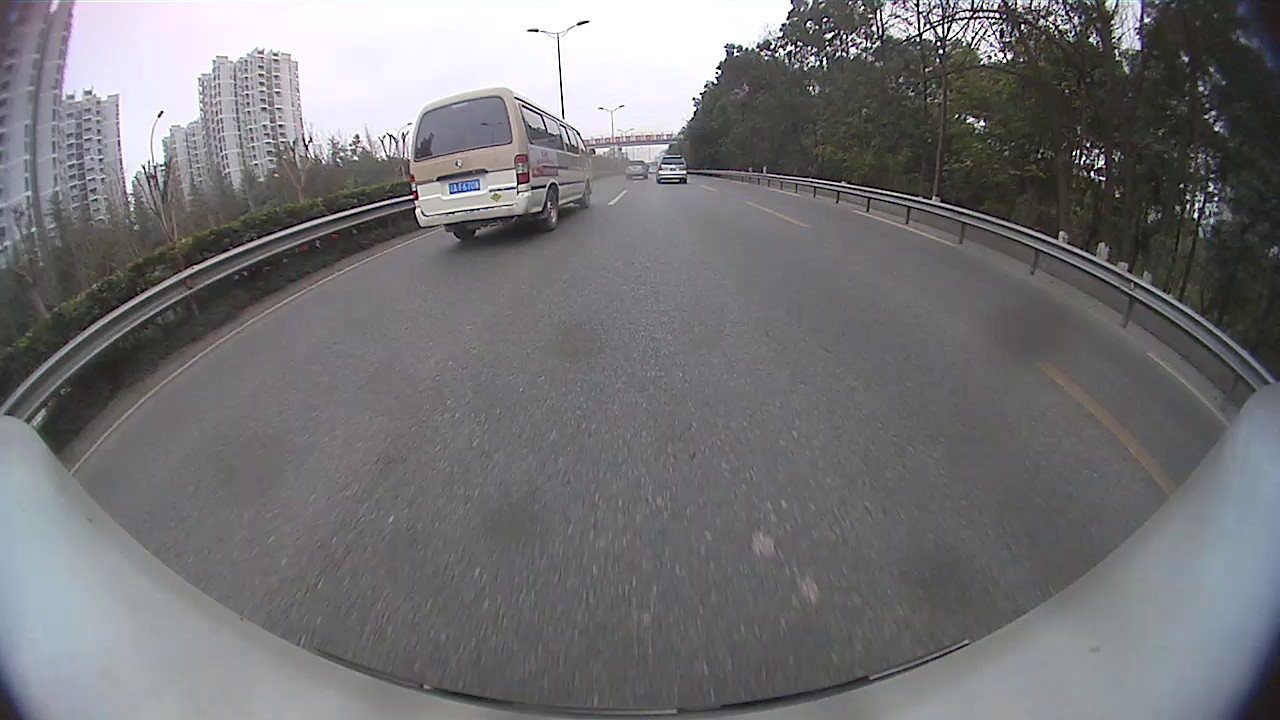car: (400, 87, 598, 242), (655, 155, 688, 184), (625, 160, 649, 179)
rear: (541, 192, 562, 231)
